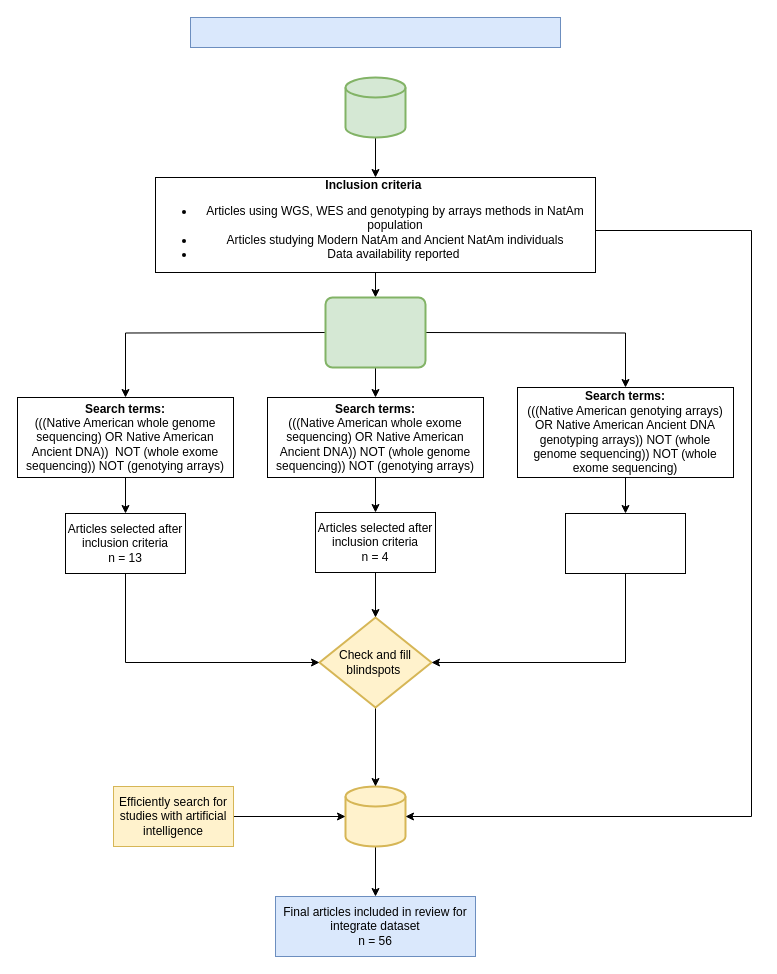
Some shapes in this 777 by 974 pixel diagram are drawn without their labels. The centre of each missing label's shape, as x and y in pixels:
Articles selected after inclusion criteria n = 2: (x=625, y=543)
PubMed: (x=375, y=107)
PubMed advanced search: (x=375, y=332)
Research Rabbit: (x=375, y=816)
Search methodology for NatAm sequencing and arrays studies: (x=375, y=32)
